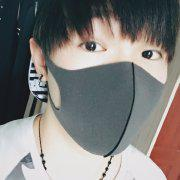OK: (41, 22, 175, 156)
